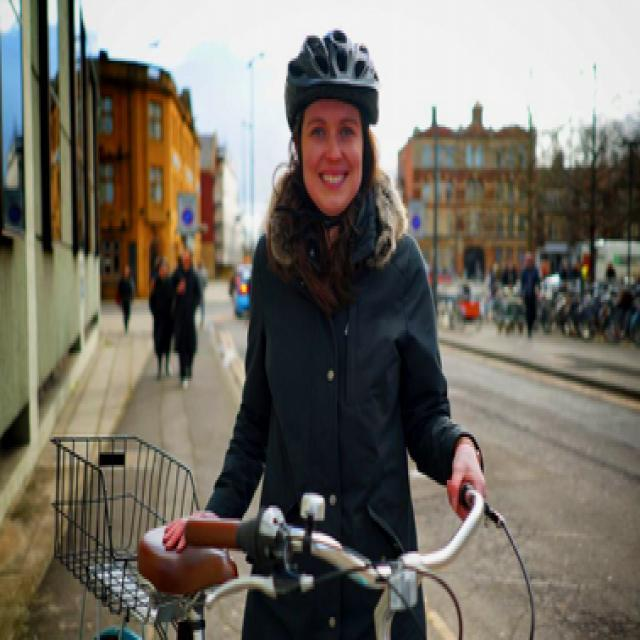Helmet: (267, 30, 398, 214)
